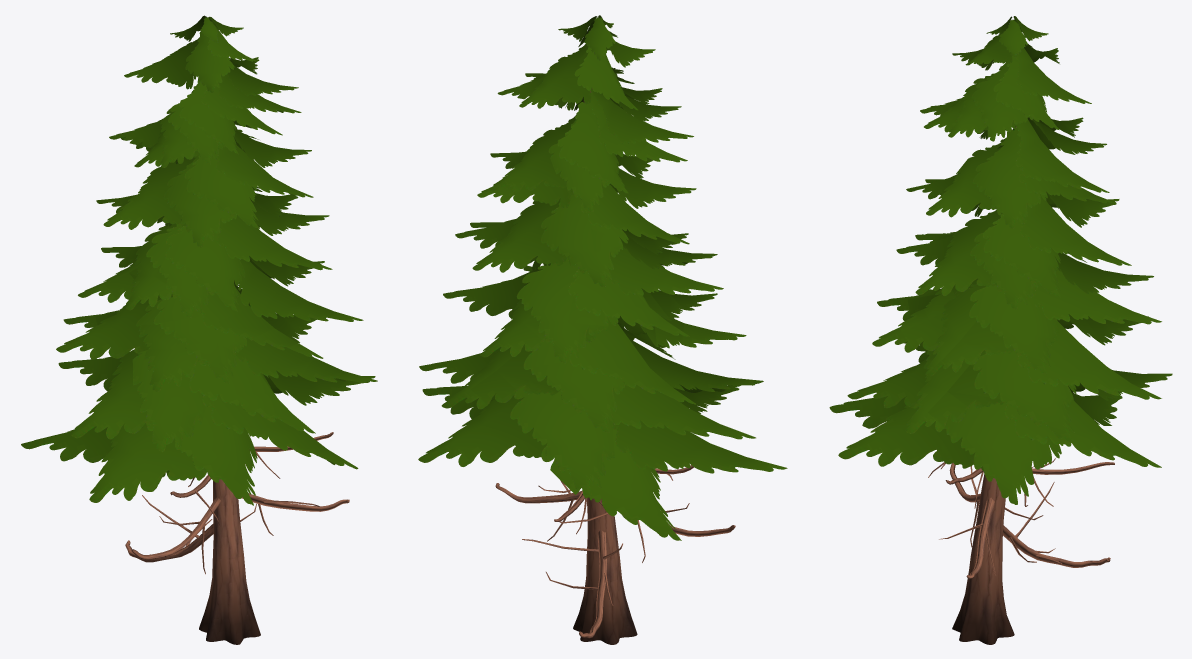
Rendered from pine_4.glb.
3 views of the same model, side by side, from view 1: azimuth 30°, elevation 25°; view 2: azimuth 150°, elevation 25°; view 3: azimuth 270°, elevation 25° (orthographic). The views are drawn at different scales.
Parts seen in each view (by area): view 1: Pine_4; view 2: Pine_4; view 3: Pine_4.
Part boxes in pixels (bbox=[...]): Pine_4: bbox=[21, 15, 377, 644]; Pine_4: bbox=[418, 15, 787, 644]; Pine_4: bbox=[829, 16, 1172, 644].
Size of the model in its own units: 5.8 by 10.24 by 5.37.
2 materials, 2 textured.
